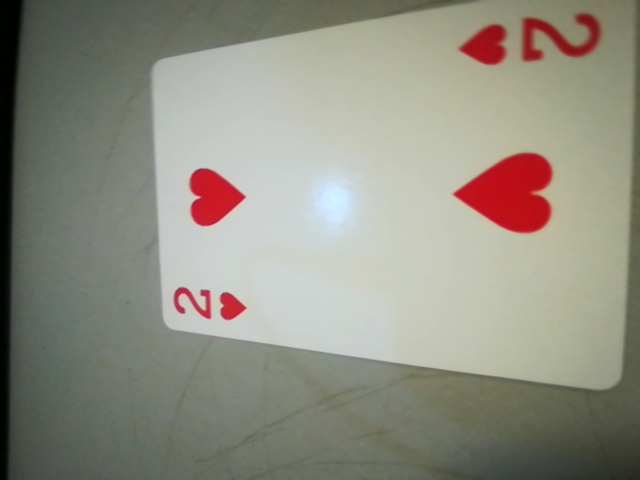hx 2: (465, 3, 619, 76)
